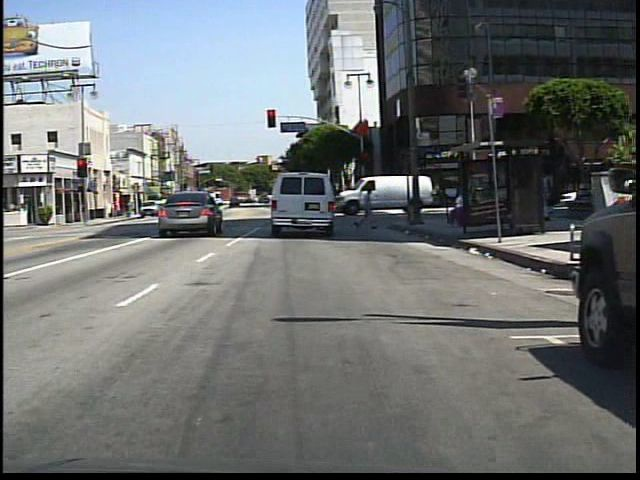person: (356, 183, 380, 234), (168, 192, 183, 218)
